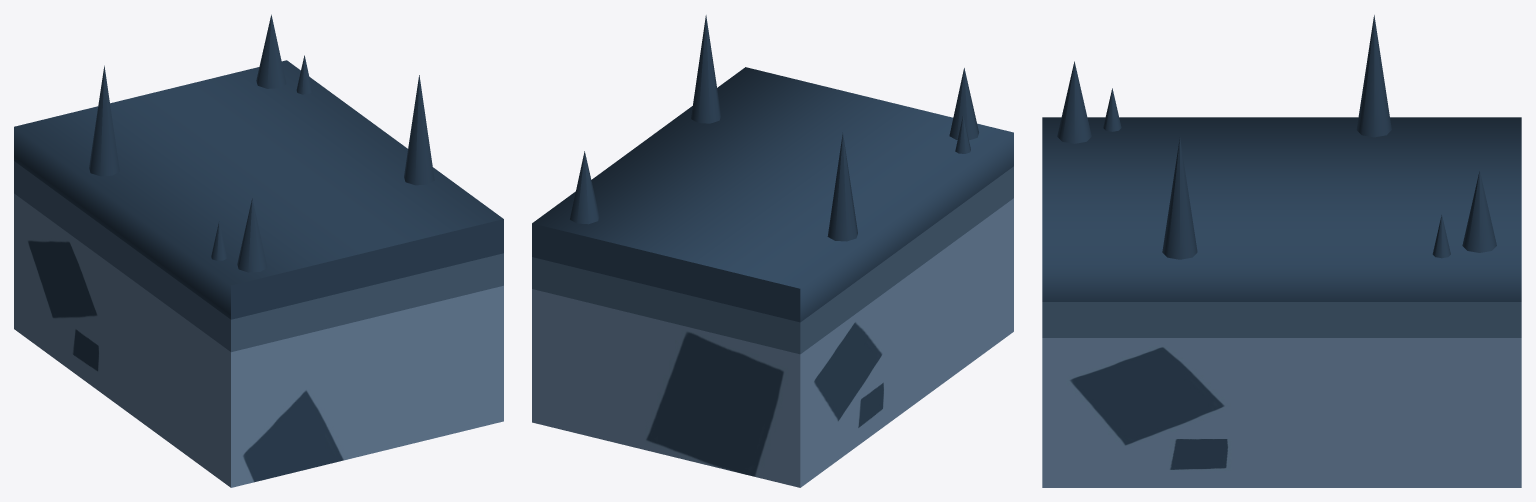
The model's file is Rock_Rocky.fbx.
3 renders of one model, left to right at view 1: azimuth 30°, elevation 25°; view 2: azimuth 150°, elevation 25°; view 3: azimuth 270°, elevation 25°, orthographic. The views are drawn at different scales.
Visible parts, largest first — view 1: Land, Cone001; view 2: Land, Cone001; view 3: Land, Cone001.
Part boxes in pixels (x1,y1,x2,y2): Land: (14,60,503,487); Cone001: (89,14,434,272); Land: (532,67,1013,487); Cone001: (570,15,978,241); Land: (1042,117,1521,487); Cone001: (1057,15,1496,259).
Size of the model in its own units: 72.83 by 78.44 by 100.
1 material, 1 textured.
